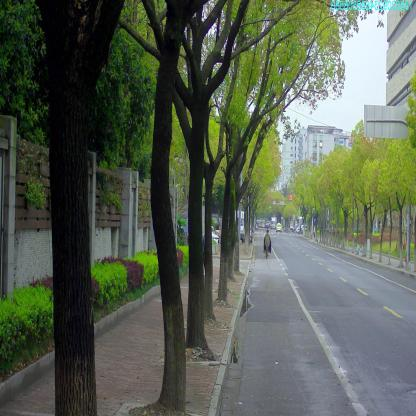traffic-light: (290, 194, 292, 203)
